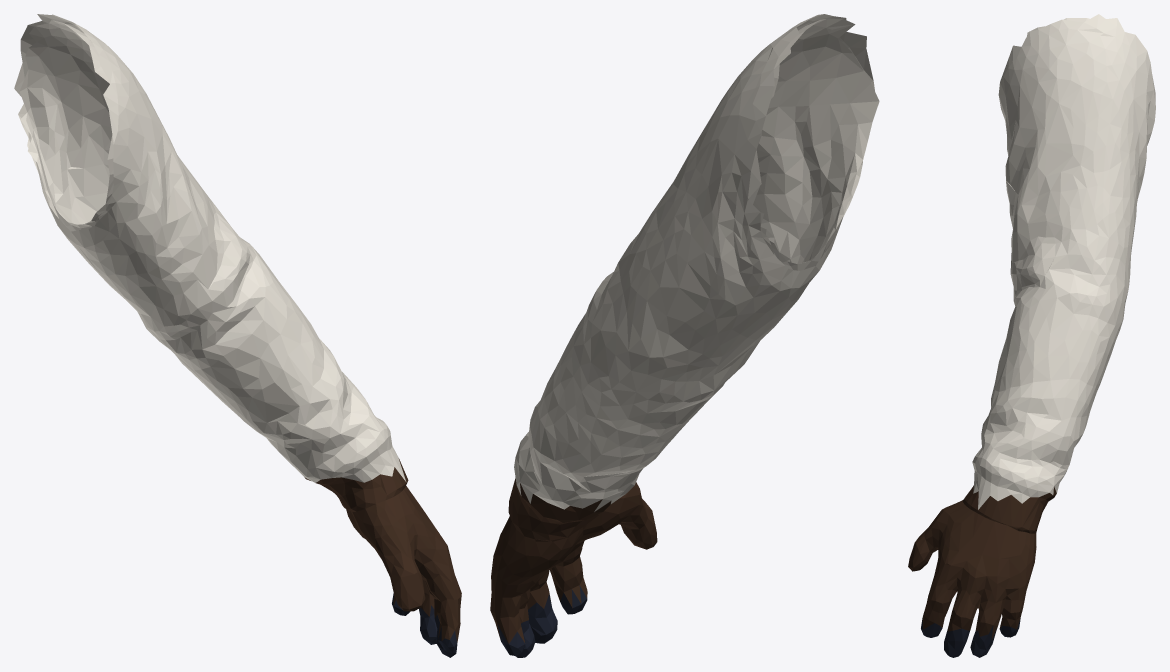
Rendered from prof_boss_arm_l.obj.
3 views of the same model, side by side, from view 1: azimuth 30°, elevation 25°; view 2: azimuth 150°, elevation 25°; view 3: azimuth 270°, elevation 25° (orthographic). The views are drawn at different scales.
Visible parts, largest first — view 1: BossProf.001; view 2: BossProf.001; view 3: BossProf.001.
Boxes of the visible parts, <box> form: BossProf.001: <box>14,14,461,657</box>; BossProf.001: <box>490,14,879,657</box>; BossProf.001: <box>908,14,1155,657</box>.
Size of the model in its own units: 0.5186 by 0.9828 by 0.4217.
